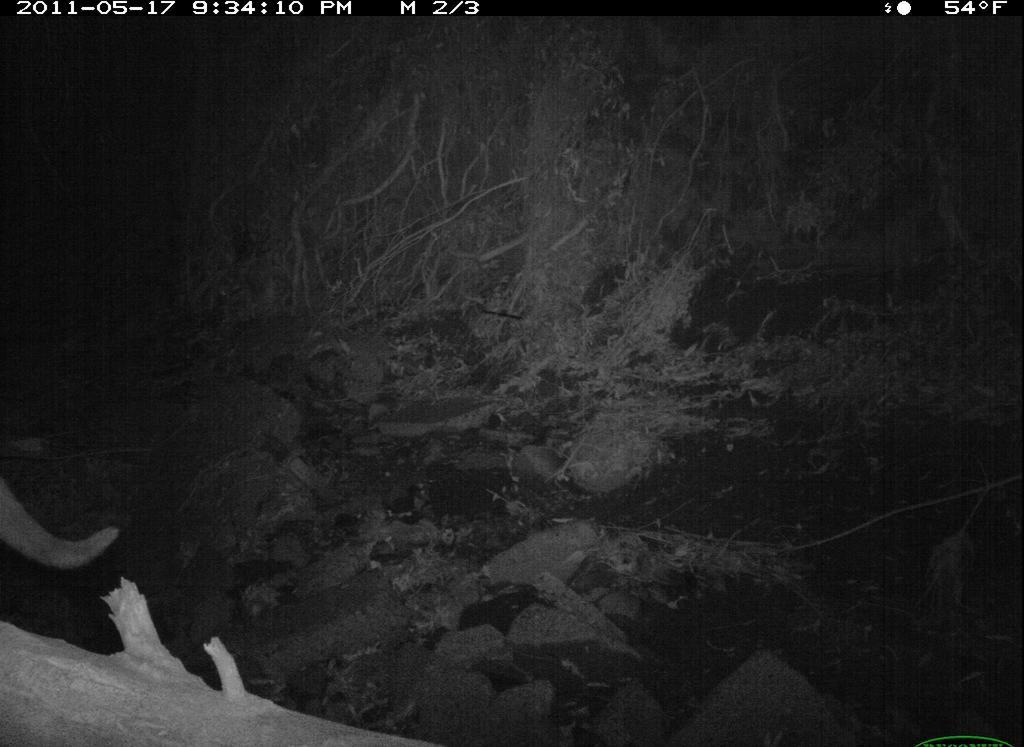cat: (1, 454, 131, 597)
